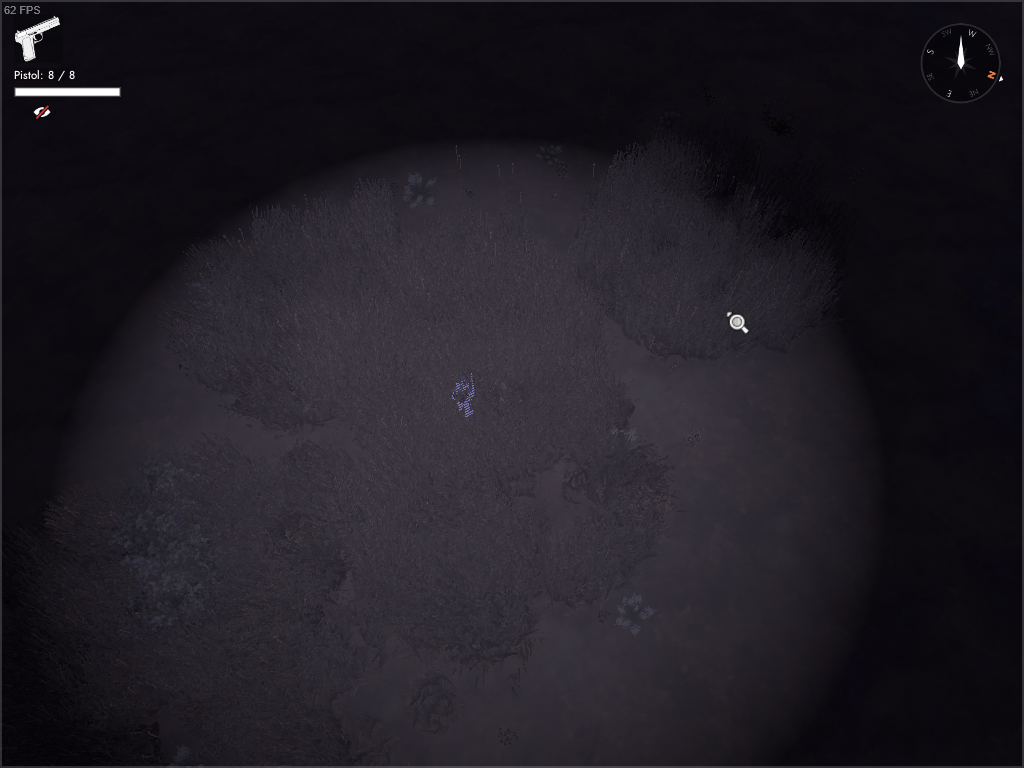player: (448, 369, 481, 422)
